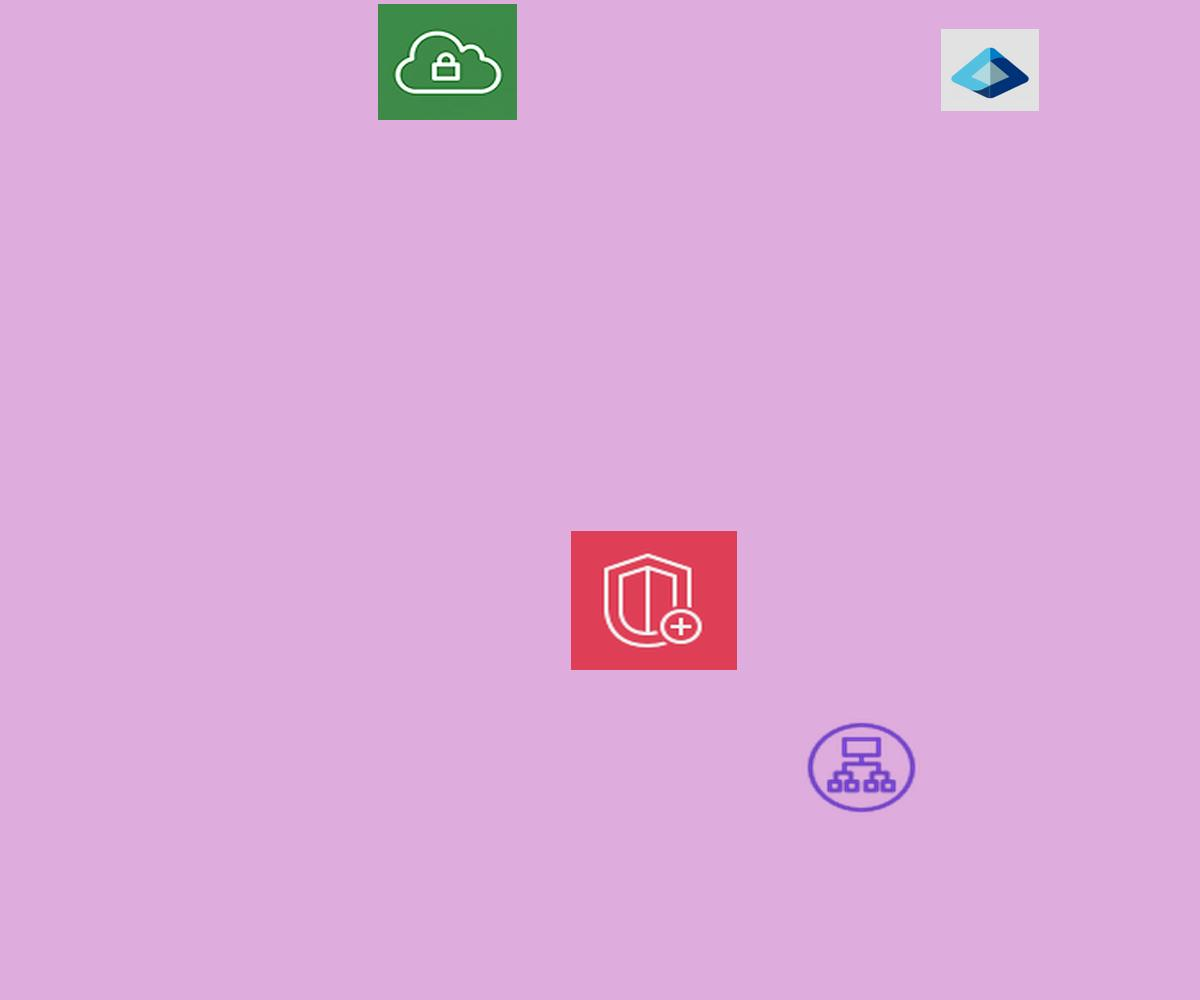AWS-Private_vpc: (378, 4, 517, 120)
AWS-Res_Elastic-Load-Balancing_Application-Load-Balancer: (803, 719, 920, 816)
AWS-Shield: (571, 531, 737, 670)
Azure_microsoft_entra: (941, 29, 1039, 111)
